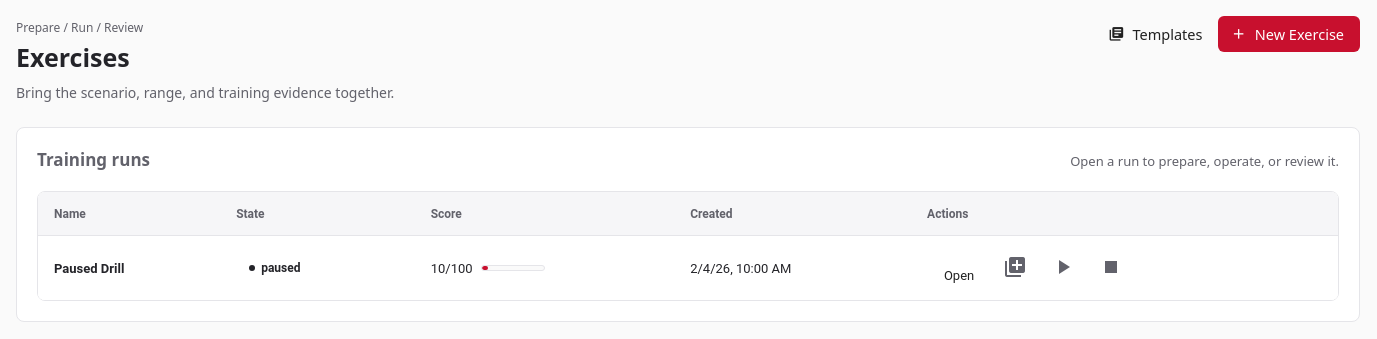
Test: ExercisesComponent › Resume › POSTs /resume (not /start) and shows the exercise running after reload
Click the button named "Resume exercise" at (1063, 267), box [1039, 243, 1087, 291]
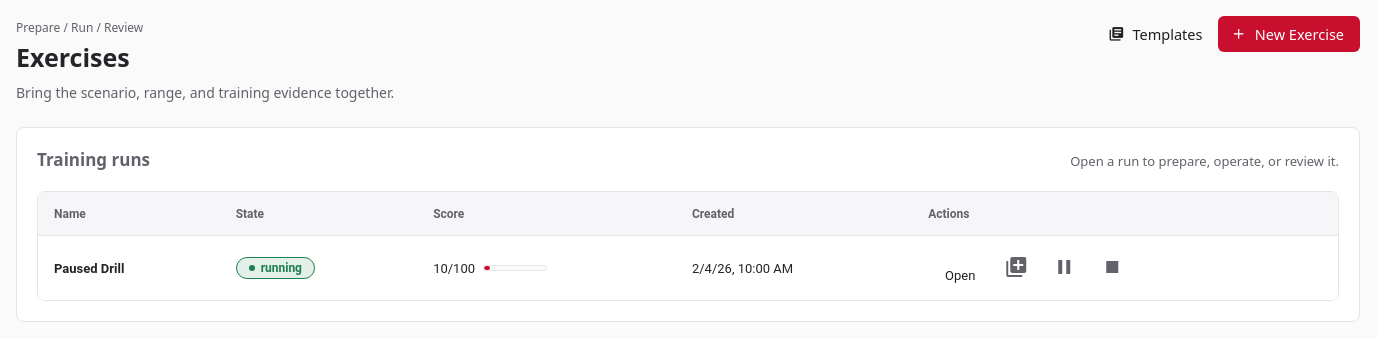
Expected: the text "running" is shown, [236, 257, 315, 279]
